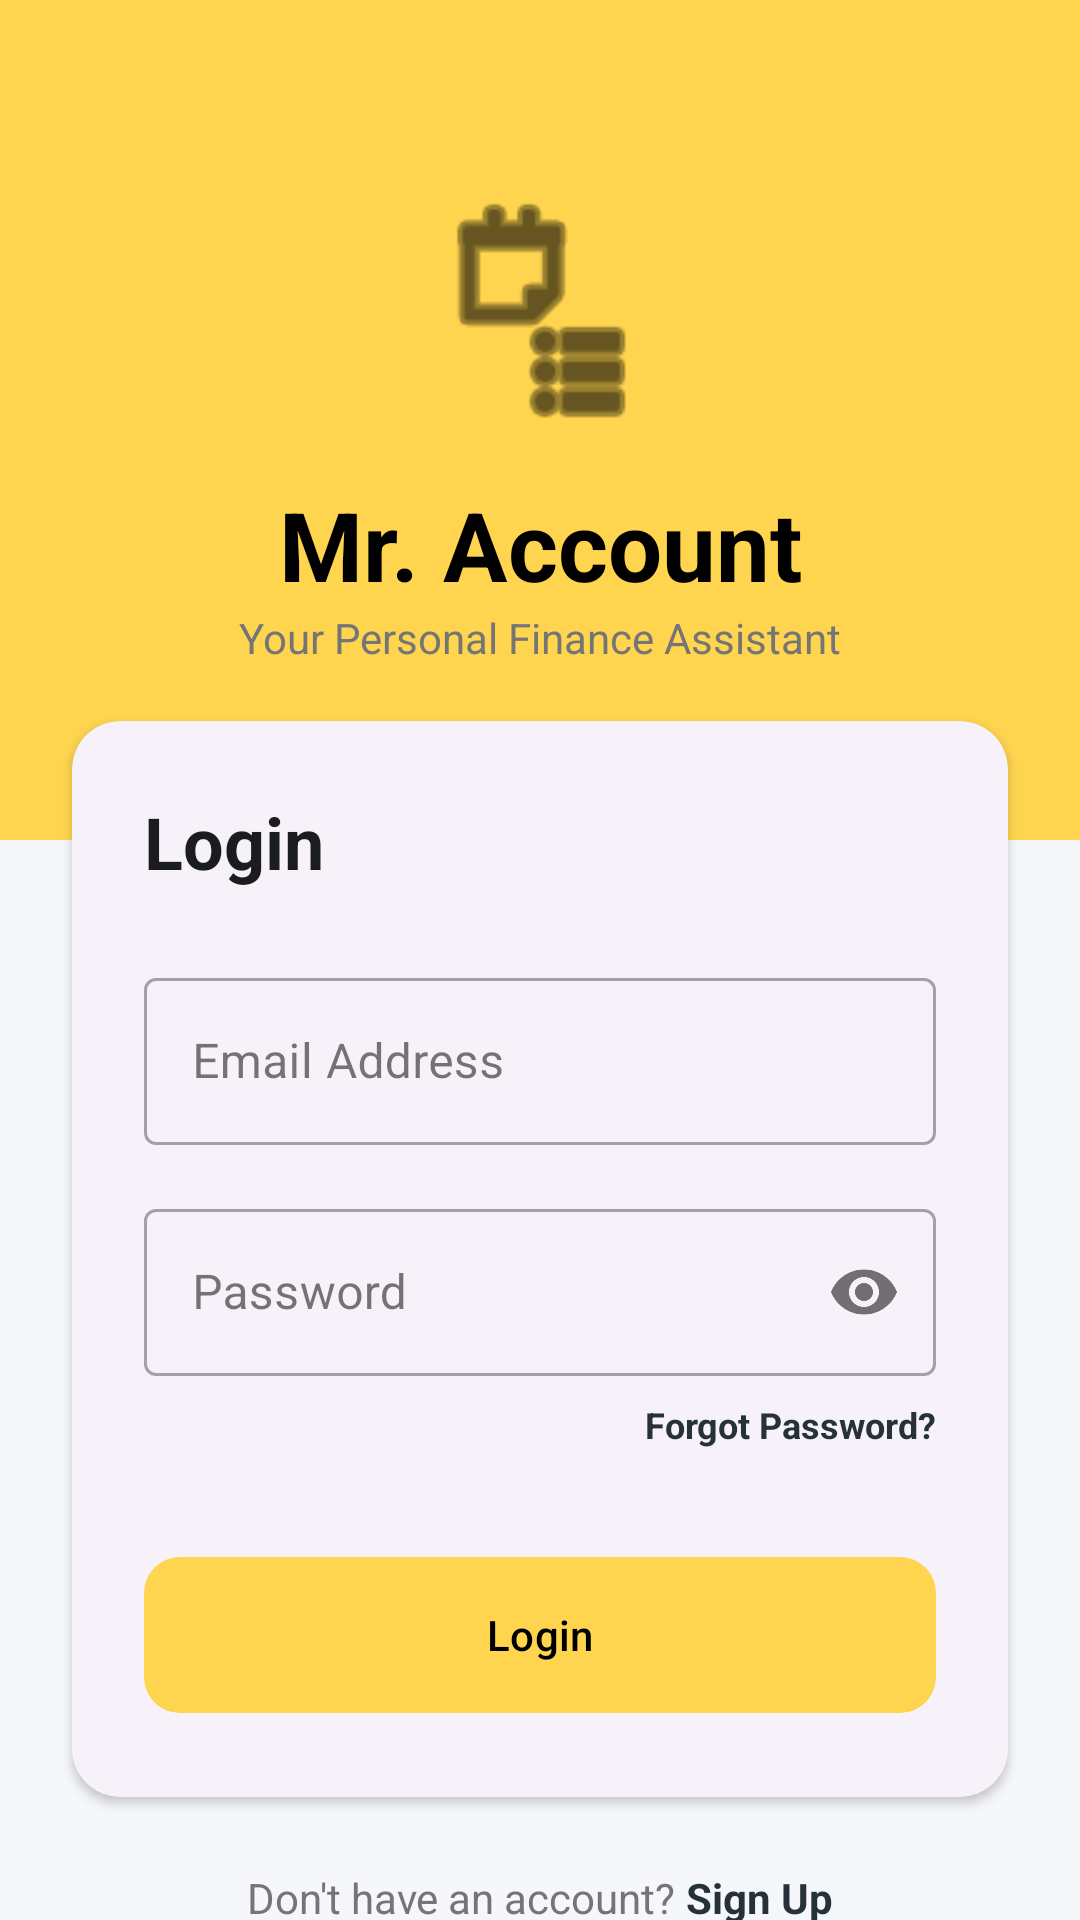

Locate icon controls on the screen. Image size 1080px x 1920px, boxes as (x1, y1, x2, y2).
agenda: (457, 204, 626, 418)
